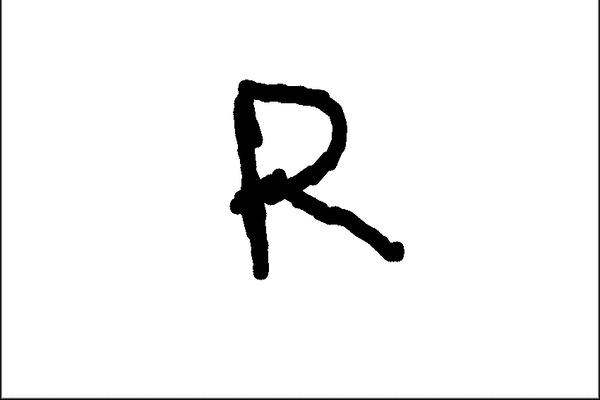R: (214, 61, 415, 289)
